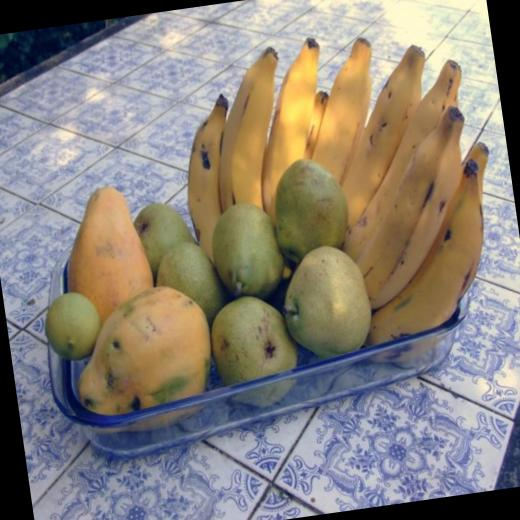Banana: (167, 16, 516, 397)
